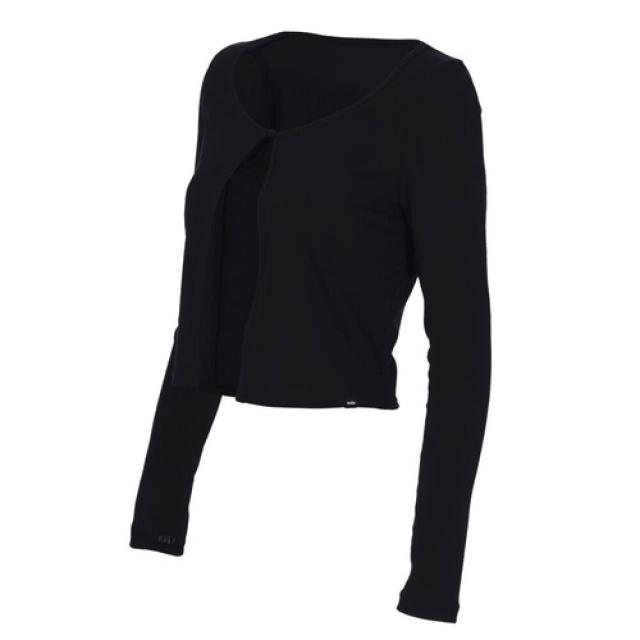dress: (132, 33, 494, 626)
